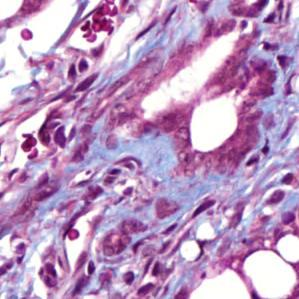steatosis: (190, 96, 244, 154)
